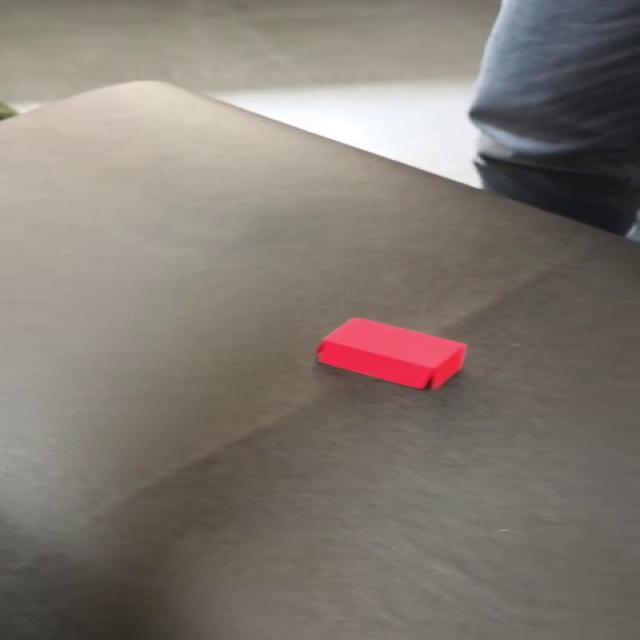red block: (315, 316, 468, 391)
